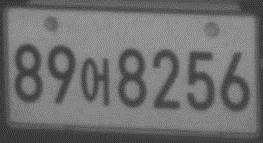2: (152, 47, 181, 111)
5: (187, 49, 215, 110)
6: (219, 50, 250, 112)
8: (13, 42, 44, 102), (117, 47, 147, 108)
9: (46, 44, 76, 105)
어: (81, 56, 110, 106)
